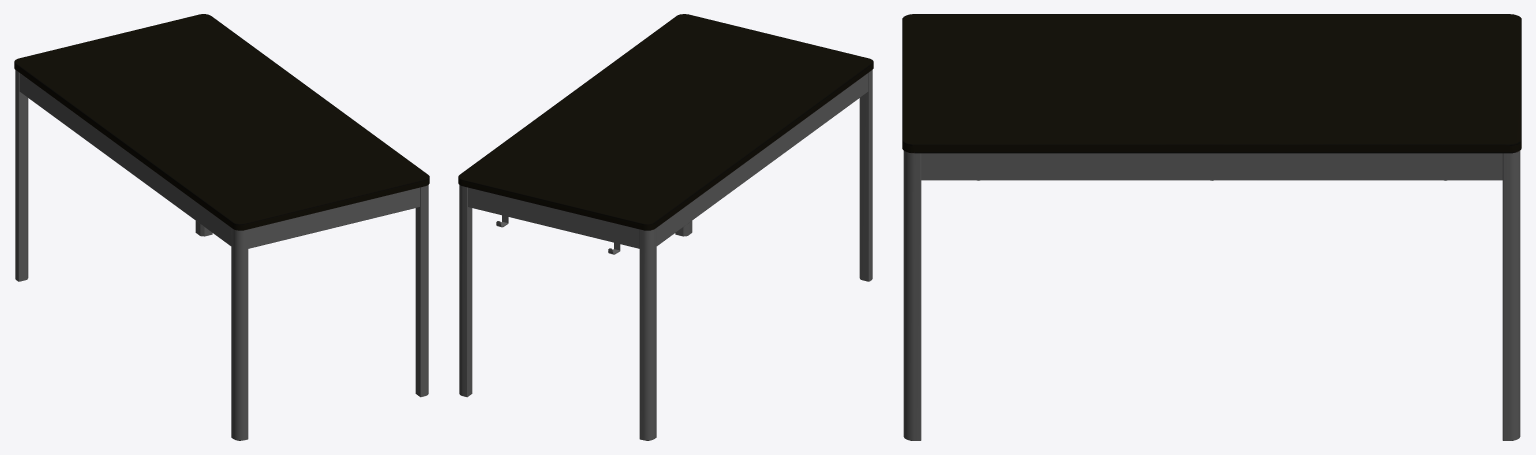
Rendered from IDÅSEN Tisch - schwarzdunkelgrau.glb.
The picture shows the model from 3 angles, left to right: view 1: azimuth 30°, elevation 25°; view 2: azimuth 150°, elevation 25°; view 3: azimuth 270°, elevation 25°; orthographic projection. The views are drawn at different scales.
Parts seen in each view (by area): view 1: Mesh_0; view 2: Mesh_0; view 3: Mesh_0.
Boxes of the visible parts, x1=… form: Mesh_0: x1=14, y1=14, x2=429, y2=440; Mesh_0: x1=458, y1=14, x2=873, y2=440; Mesh_0: x1=902, y1=14, x2=1521, y2=440.
Size of the model in its own units: 0.6997 by 0.7448 by 1.4.
1 material, 1 textured.
